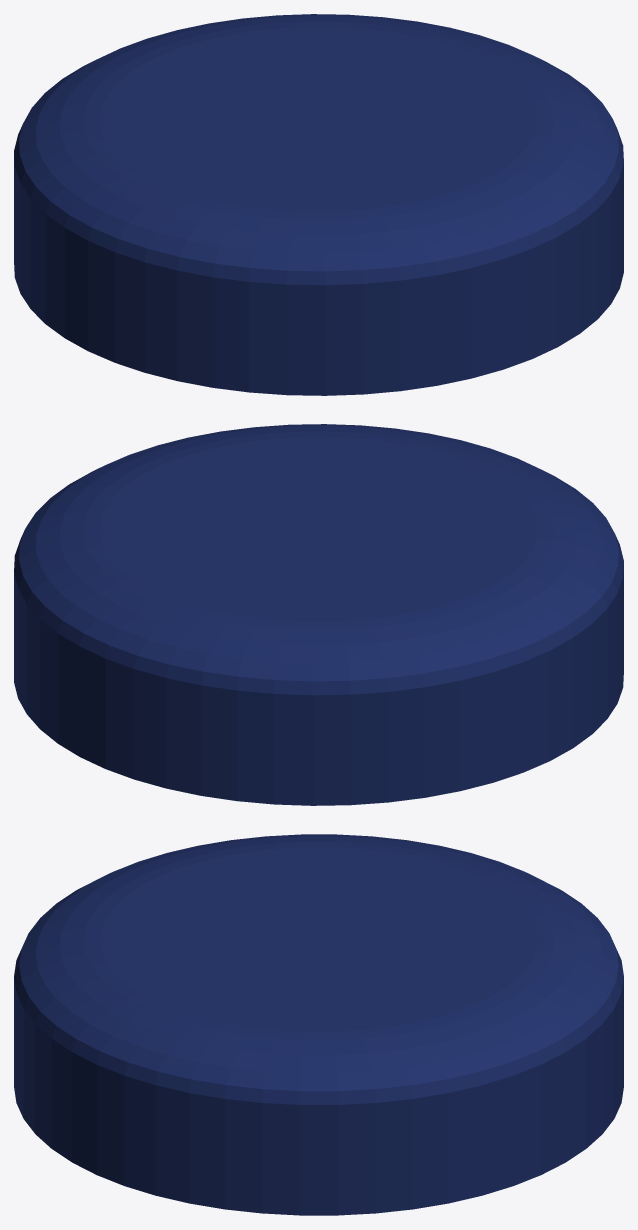
The model's file is goal_tile_b.glb.
3 renders of one model, top to bottom at view 1: azimuth 30°, elevation 25°; view 2: azimuth 150°, elevation 25°; view 3: azimuth 270°, elevation 25°, orthographic.
Parts seen in each view (by area): view 1: Cylinder; view 2: Cylinder; view 3: Cylinder.
Boxes of the visible parts, <box> form: Cylinder: <box>14,14,623,395</box>; Cylinder: <box>14,424,623,805</box>; Cylinder: <box>14,834,623,1215</box>.
Bounding box in the file's own units: 0.7485 × 0.2 × 0.75.
